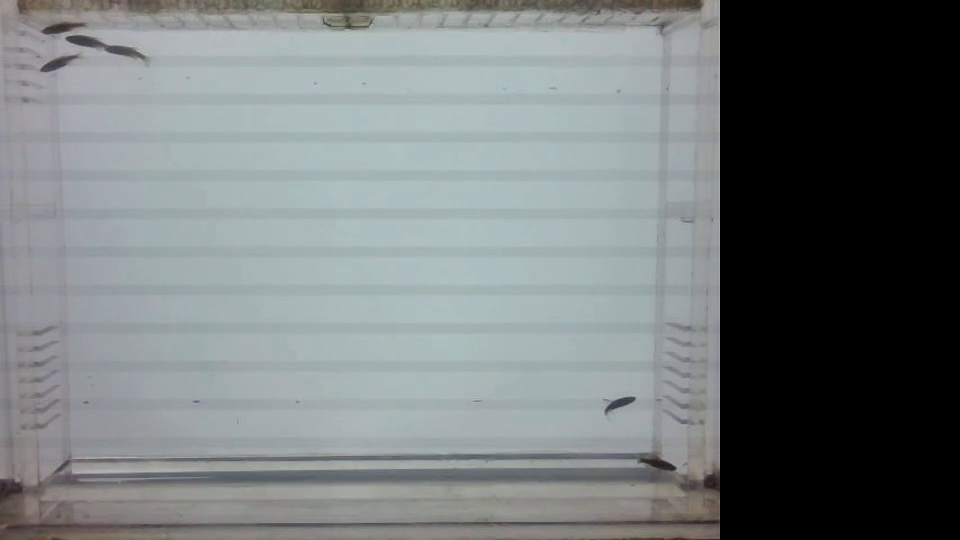fish: (32, 52, 84, 82), (106, 42, 154, 72), (40, 14, 90, 40), (593, 396, 644, 420), (632, 450, 676, 476), (64, 34, 105, 56)
